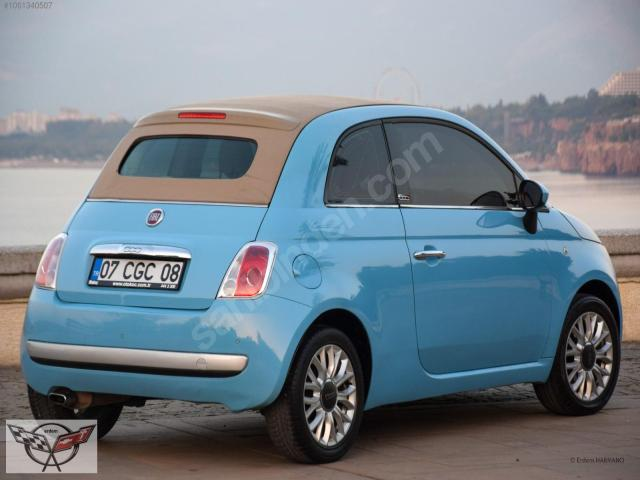plaka: (88, 256, 188, 290)
